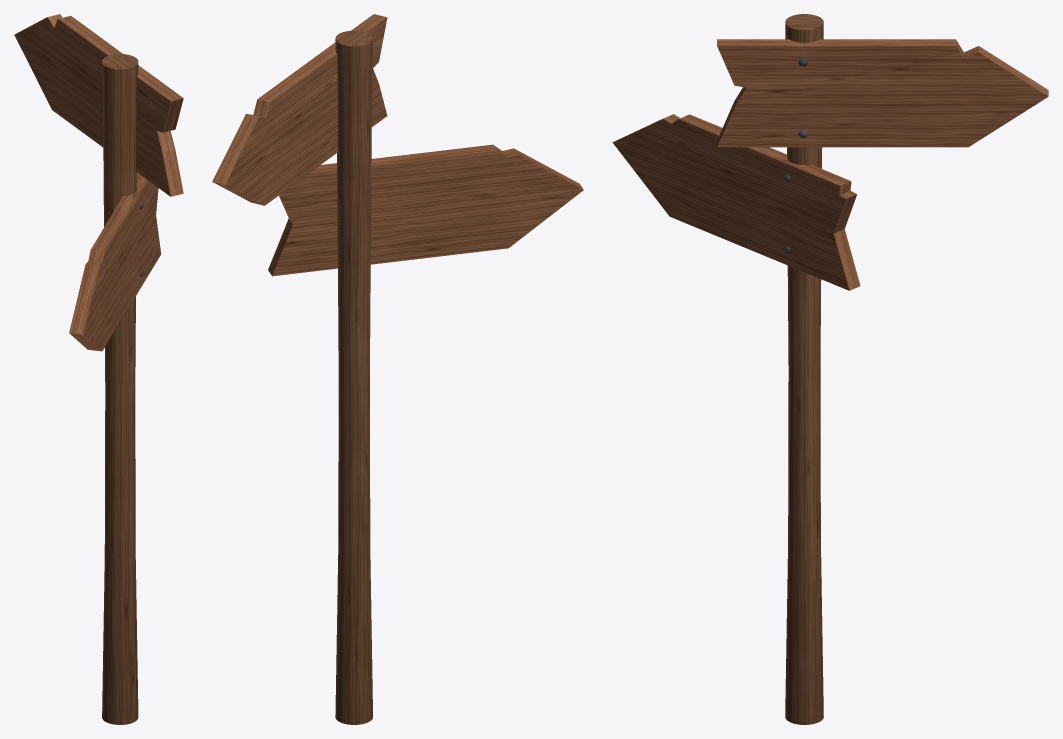
Rendered from Pointer2.glb.
The picture shows the model from 3 angles, left to right: view 1: azimuth 30°, elevation 25°; view 2: azimuth 150°, elevation 25°; view 3: azimuth 270°, elevation 25°; orthographic projection. The views are drawn at different scales.
Parts seen in each view (by area): view 1: Pointer2; view 2: Pointer2; view 3: Pointer2.
Part boxes in pixels (left/top/right/bottom): Pointer2: left=14, top=14, right=183, bottom=724; Pointer2: left=212, top=14, right=583, bottom=724; Pointer2: left=612, top=14, right=1048, bottom=724.
Bounding box in the file's own units: 1.93 × 6.1 × 3.47.
2 materials, 2 textured.
